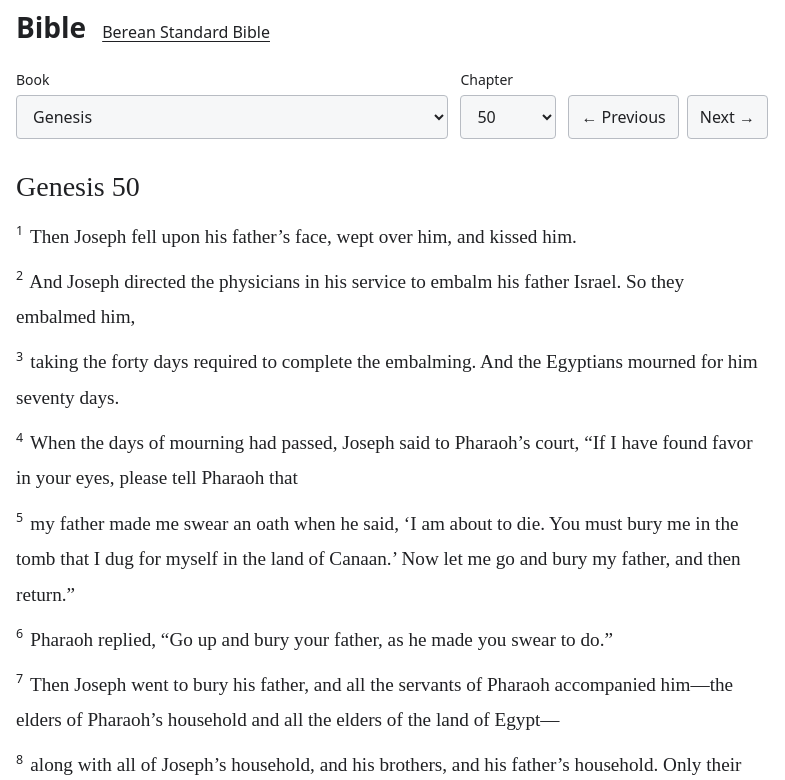
Bible reader › navigates across book boundaries and supports browser back
Later steps or results of the test are not shown.
expect the text "Joseph fell upon his father’s face" is shown: met, box [30,226,577,247]
Click the button "Next →" at (727, 117), box [687,95,768,139]
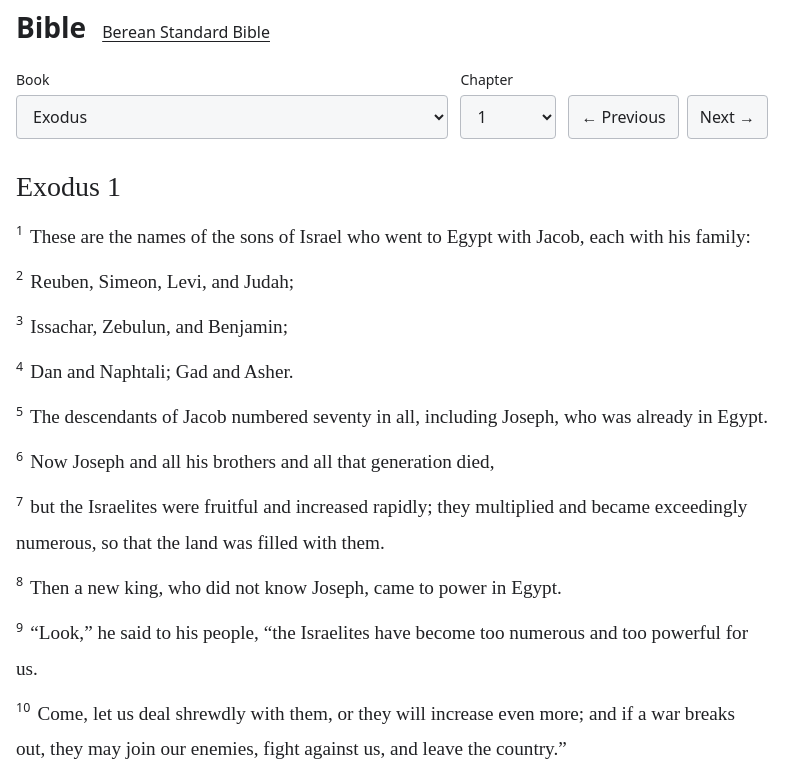
expect the text "These are the names of the sons of Israel" is shown: met, box [30,226,751,247]
expect the heading "Exodus 1" is shown: met, box [16,171,121,202]
